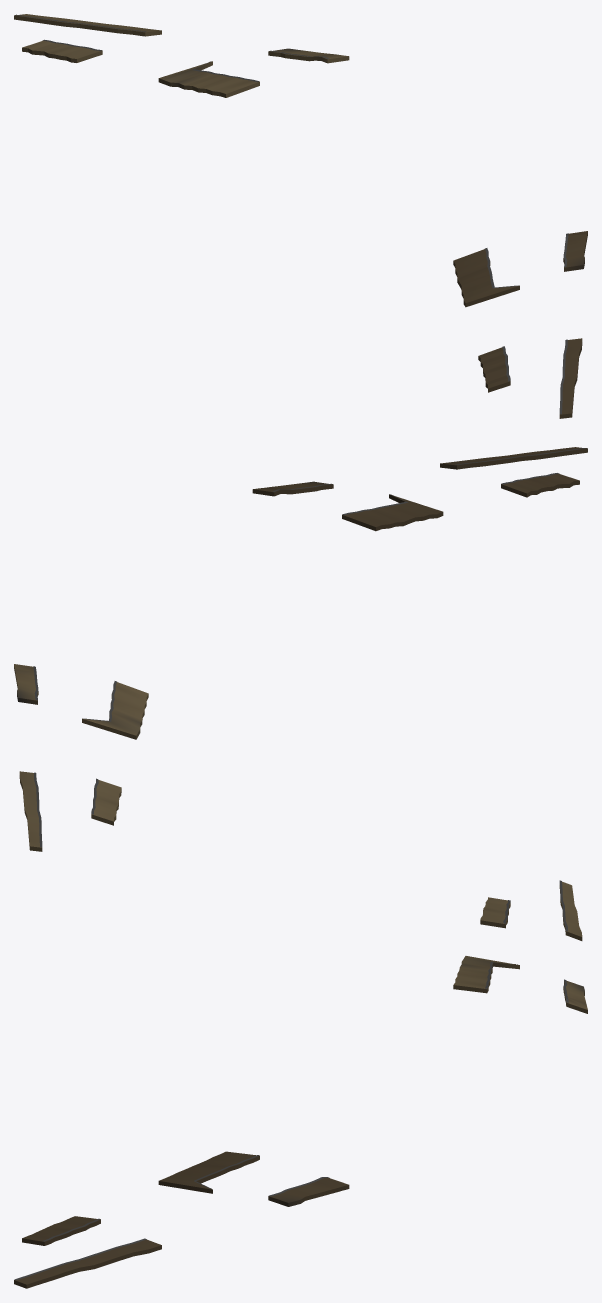
Rendered from fh_mech_bomber_1.glb.
3 renders of one model, top to bottom at view 1: azimuth 30°, elevation 25°; view 2: azimuth 150°, elevation 25°; view 3: azimuth 330°, elevation 25°, orthographic.
Parts seen in each view (by area): view 1: flap_r, flap_l, slat_r, slat_l; view 2: flap_l, flap_r, slat_l, slat_r; view 3: slat_r, flap_r, flap_l, slat_l.
Part boxes in pixels (x1,y1,x2,y2): flap_r: [453, 248, 519, 392]; flap_l: [22, 39, 259, 97]; slat_r: [559, 231, 587, 418]; slat_l: [14, 14, 349, 63]; flap_l: [82, 681, 148, 825]; flap_r: [342, 473, 579, 531]; slat_l: [14, 664, 42, 851]; slat_r: [252, 447, 587, 496]; slat_r: [14, 1177, 349, 1288]; flap_r: [22, 1151, 259, 1245]; flap_l: [453, 897, 519, 993]; slat_l: [559, 880, 587, 1013].
Bounding box in the file's own units: 0.217 × 0.0356 × 0.96.
